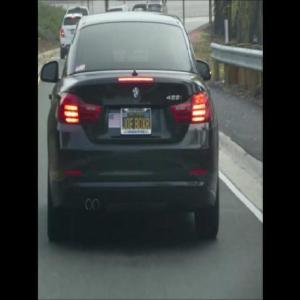Plate: (122, 105, 151, 133)
